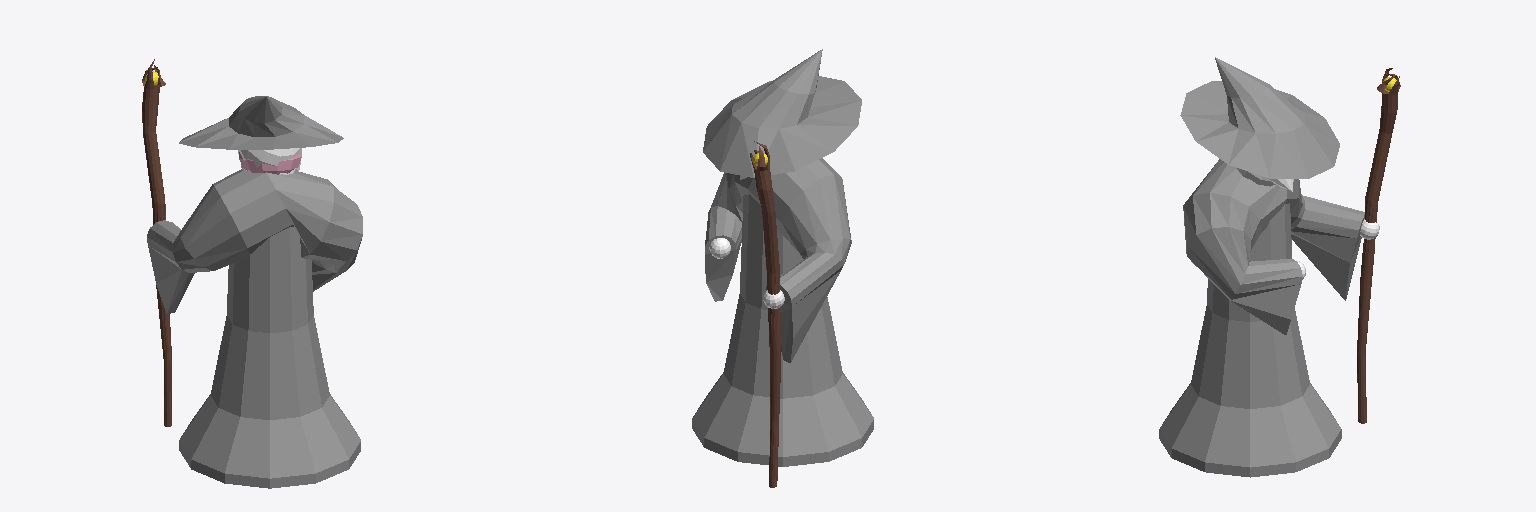
3 renders of one model, left to right at view 1: azimuth 30°, elevation 25°; view 2: azimuth 150°, elevation 25°; view 3: azimuth 270°, elevation 25°, orthographic.
Visible parts, largest first — view 1: group[number redacted], group[number redacted], group[number redacted], group[number redacted], group[number redacted], group[number redacted]; view 2: group[number redacted], group[number redacted], group[number redacted], group[number redacted]; view 3: group[number redacted], group[number redacted], group[number redacted], group[number redacted].
Boxes of the visible parts, x1=… form: group[number redacted]: x1=179, y1=227, x2=360, y2=488; group[number redacted]: x1=147, y1=169, x2=362, y2=313; group[number redacted]: x1=179, y1=96, x2=343, y2=149; group[number redacted]: x1=142, y1=59, x2=171, y2=426; group[number redacted]: x1=238, y1=148, x2=300, y2=167; group[number redacted]: x1=239, y1=148, x2=301, y2=174; group[number redacted]: x1=692, y1=194, x2=873, y2=466; group[number redacted]: x1=705, y1=158, x2=851, y2=362; group[number redacted]: x1=703, y1=49, x2=861, y2=177; group[number redacted]: x1=750, y1=141, x2=781, y2=487; group[number redacted]: x1=1159, y1=203, x2=1341, y2=477; group[number redacted]: x1=1183, y1=159, x2=1364, y2=334; group[number redacted]: x1=1180, y1=57, x2=1339, y2=178; group[number redacted]: x1=1357, y1=68, x2=1400, y2=423.
Size of the model in its own units: 0.3321 by 0.7536 by 0.4368.